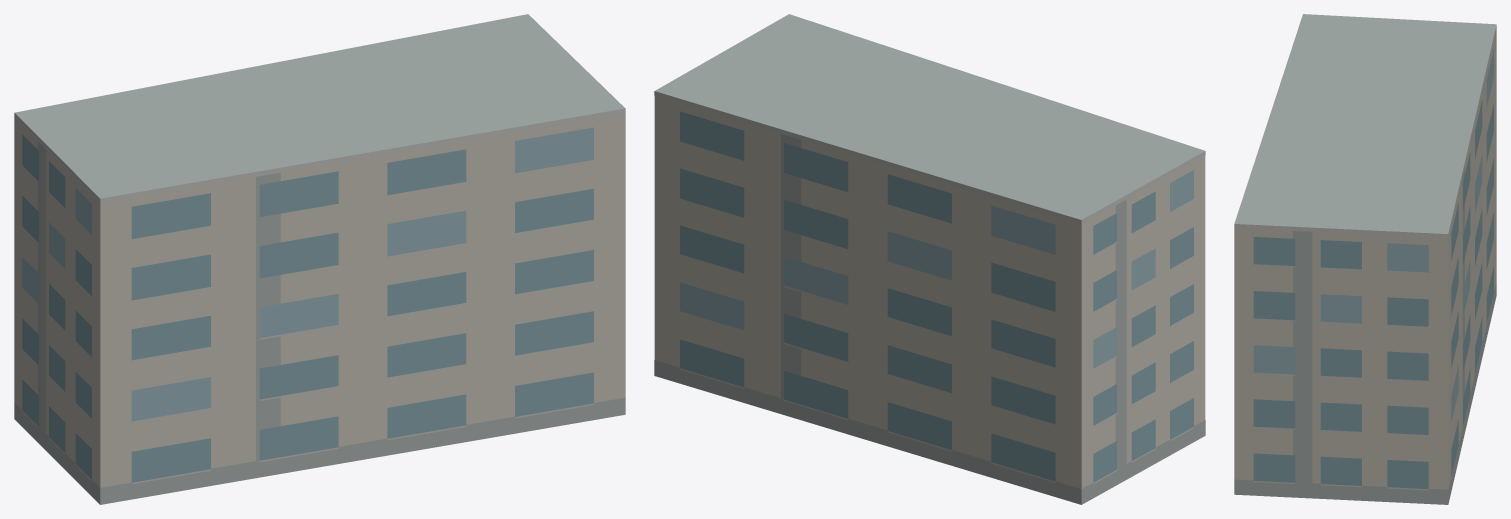
Rendered from residential-0b9a451a-55a1-45d8-9bc0-111329a5a24d.glb.
3 views of the same model, side by side, from view 1: azimuth 30°, elevation 25°; view 2: azimuth 150°, elevation 25°; view 3: azimuth 270°, elevation 25° (orthographic). The views are drawn at different scales.
Visible parts, largest first — view 1: residential-0b9a451a-55a1-45d8-9bc0-111329a5a24d.tmp; view 2: residential-0b9a451a-55a1-45d8-9bc0-111329a5a24d.tmp; view 3: residential-0b9a451a-55a1-45d8-9bc0-111329a5a24d.tmp.
Boxes of the visible parts, left/top/right/bottom form: residential-0b9a451a-55a1-45d8-9bc0-111329a5a24d.tmp: left=14, top=14, right=625, bottom=504; residential-0b9a451a-55a1-45d8-9bc0-111329a5a24d.tmp: left=654, top=14, right=1205, bottom=504; residential-0b9a451a-55a1-45d8-9bc0-111329a5a24d.tmp: left=1234, top=14, right=1496, bottom=504.
Size of the model in its own units: 26.59 by 15.25 by 13.4.
